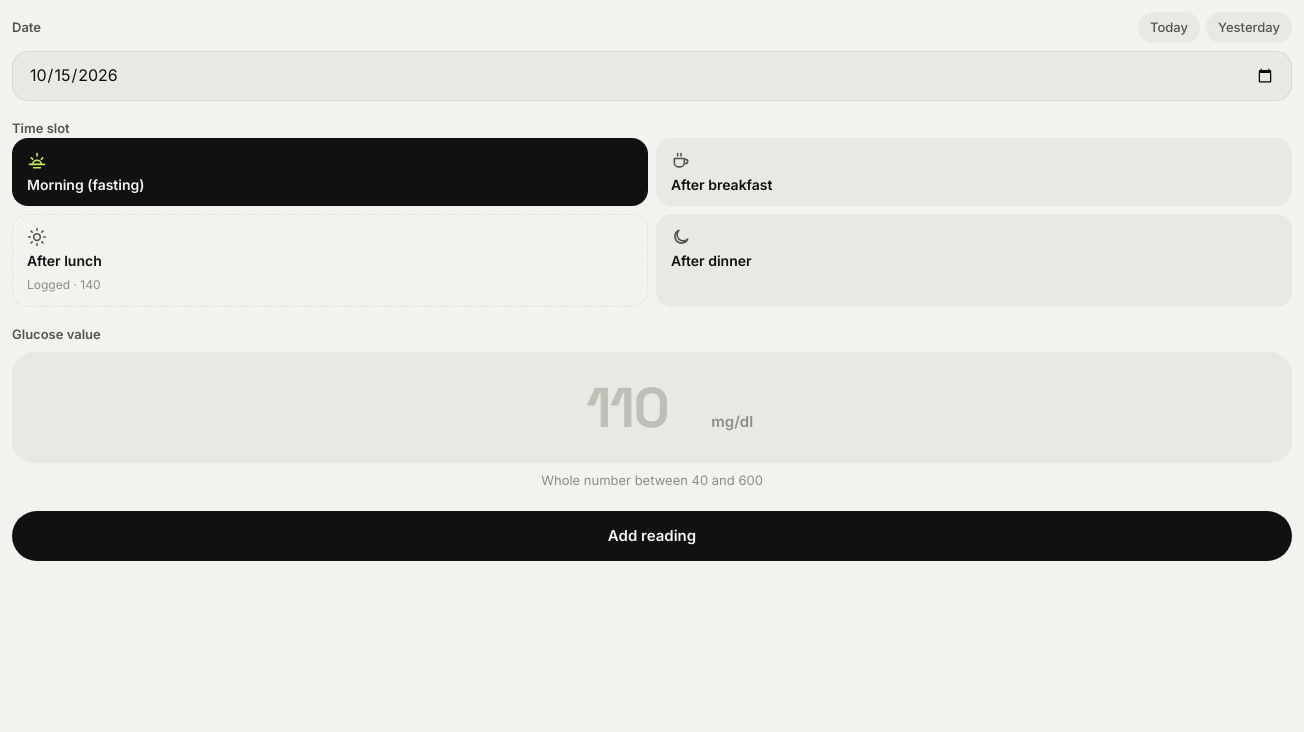
Scenario: marks slots already logged that day and blocks a duplicate
The width and height of the screenshot is (1304, 732).
Expected: the text "Logged · 140" is shown, [27, 276, 100, 294]
Click the radio button labelled "After lunch Logged · 140": (64,261) [12, 214, 648, 307]
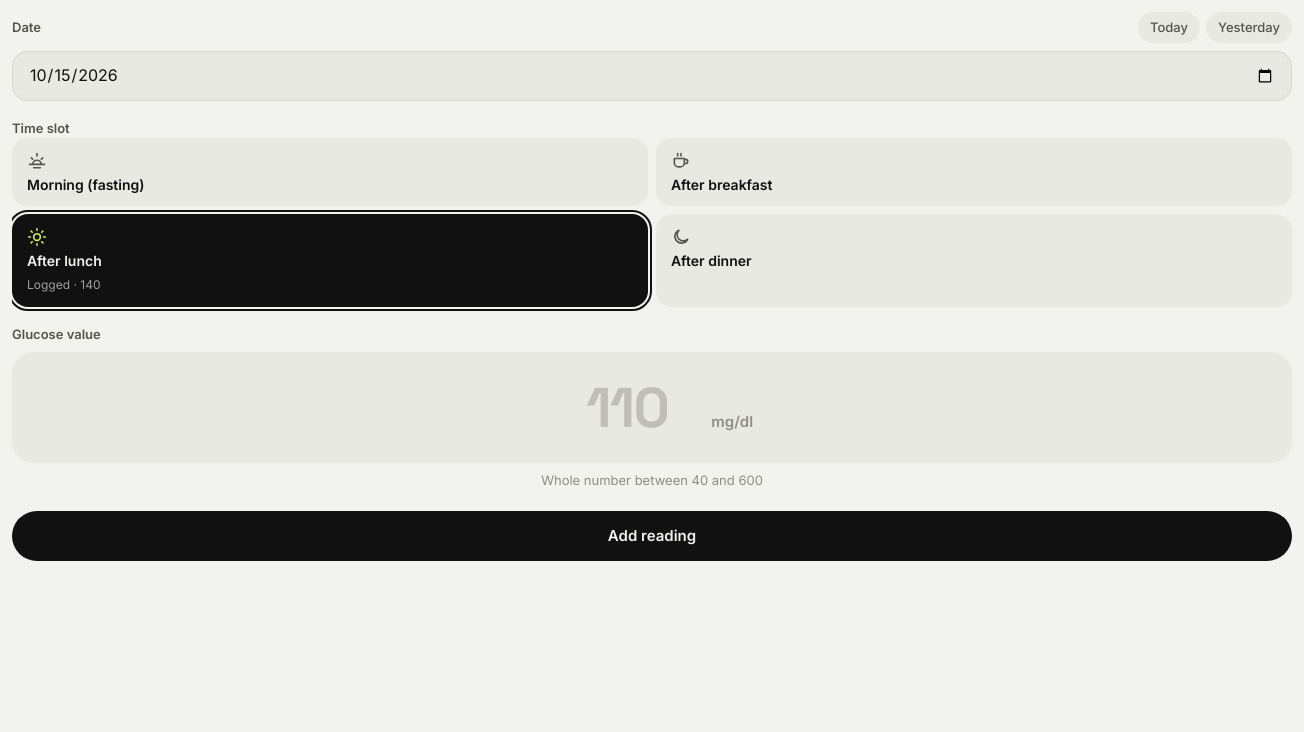
In the number field labelled "Glucose value": (627,407) [551, 372, 703, 442], type "130"
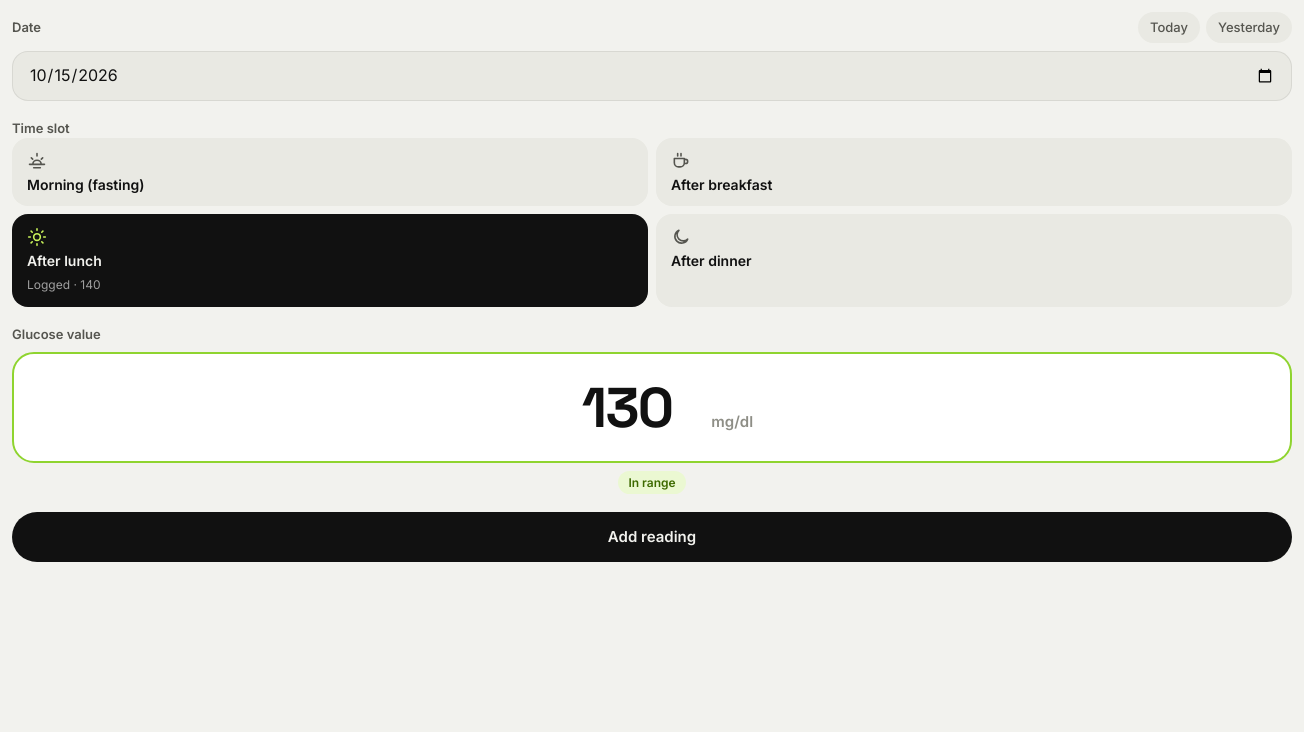
Click the button "Add reading": (652,537) [12, 512, 1292, 562]
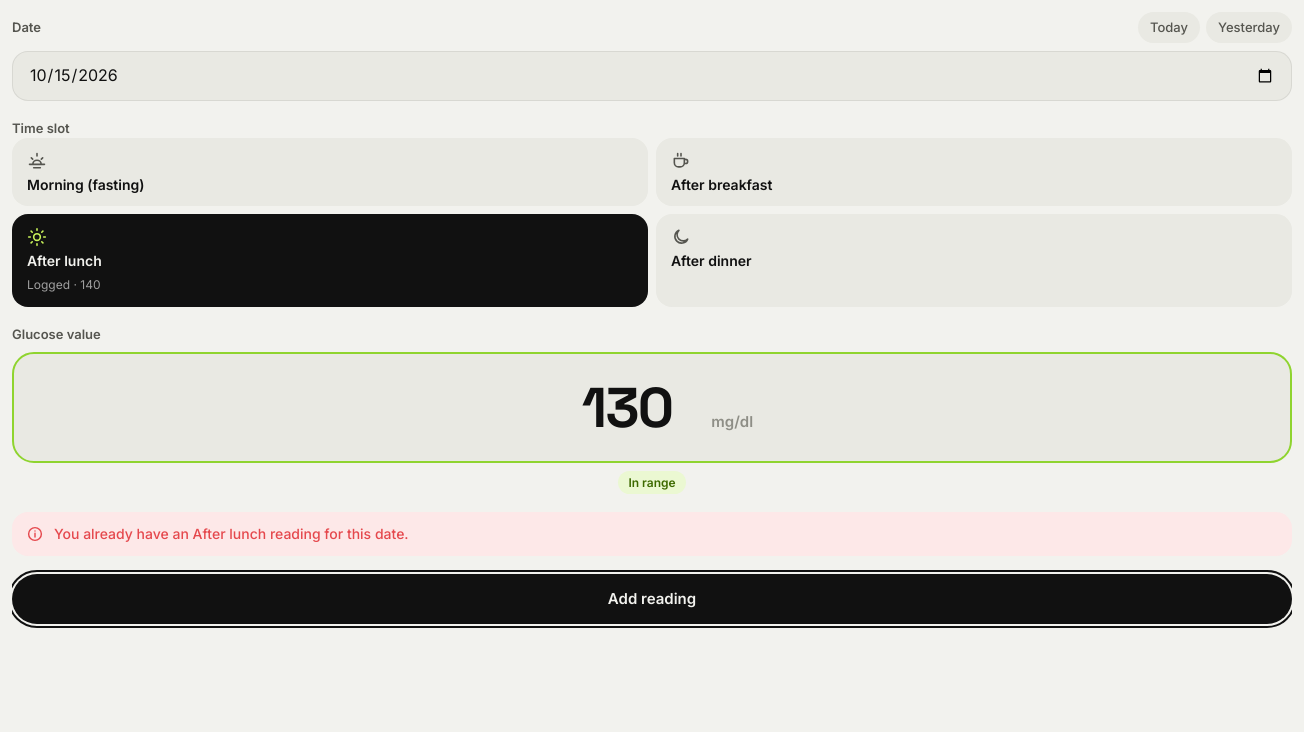
Now the message reads "You already have an After lunch reading for this date.", box [54, 525, 409, 542]
